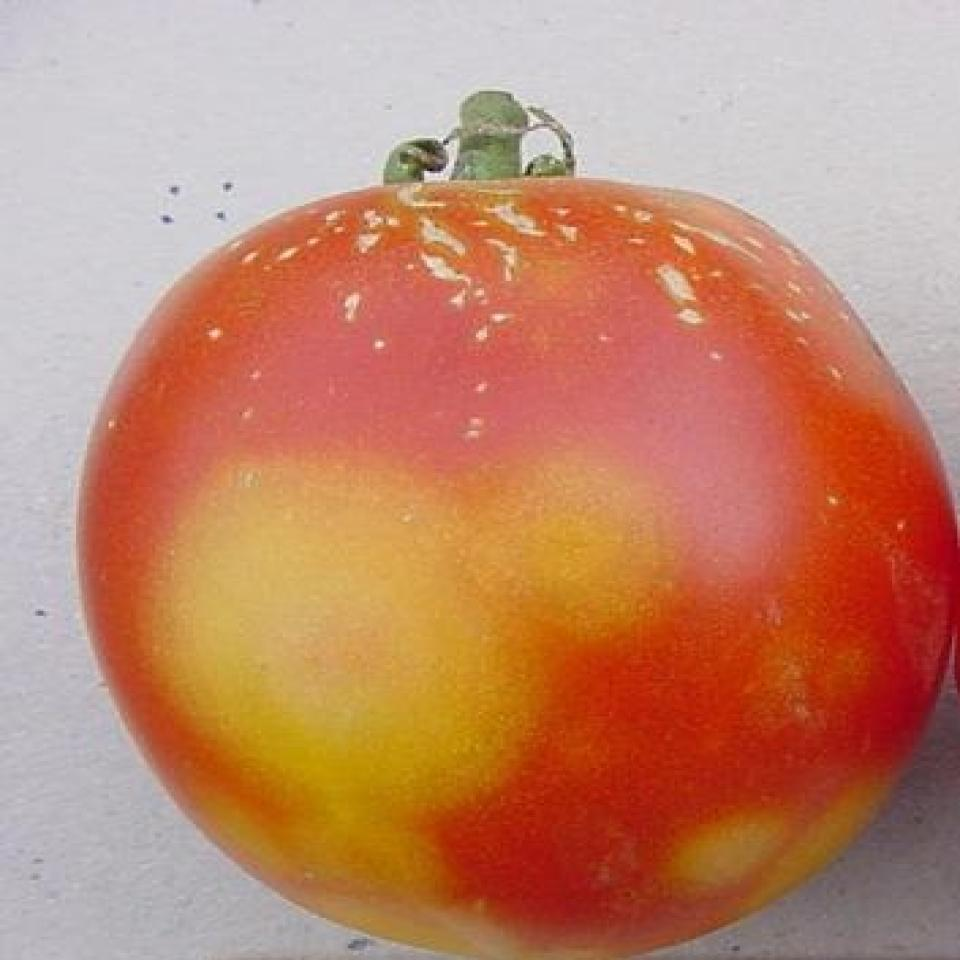Spotted wilt Virus: (75, 172, 960, 960)
